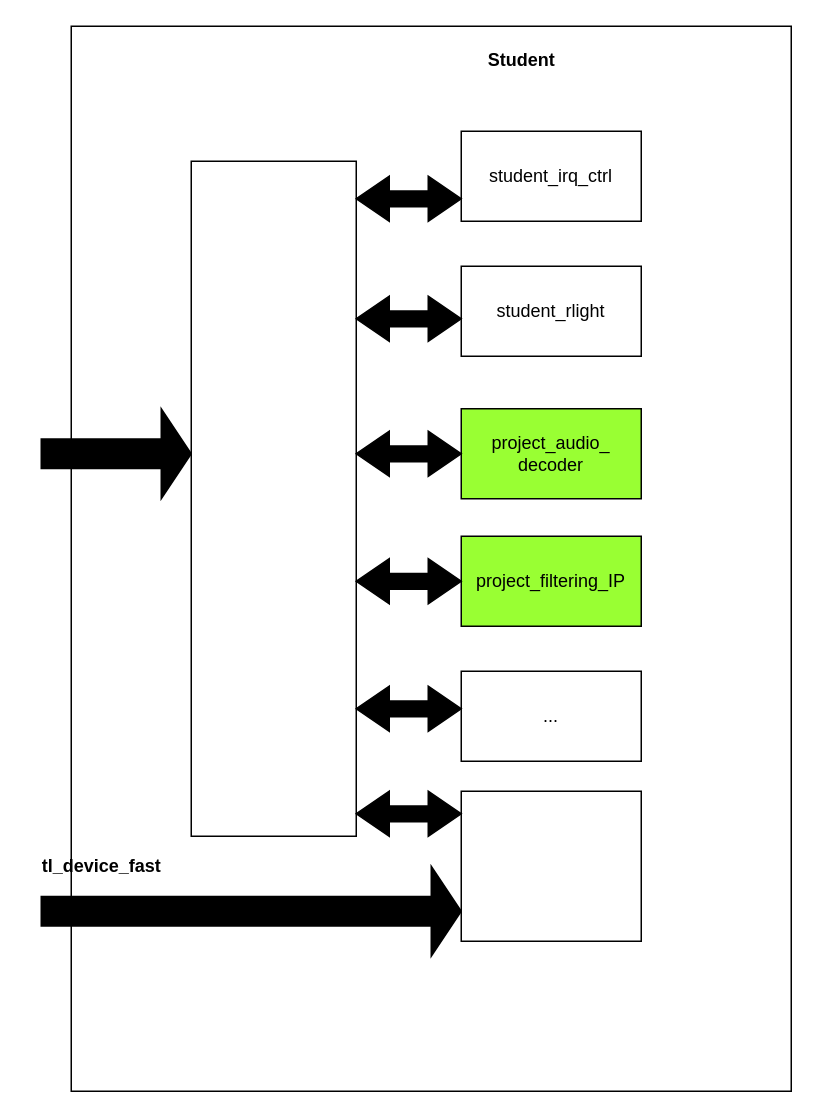
The diagram is 818 pixels wide and 1118 high, and some of its shapes have lost their labels. The centre of each missing label's shape, as x and y in pixels:
student_dma: (x=550, y=865)
student_tlul_mux: (x=273, y=498)
tl_device_peri: (x=115, y=453)
